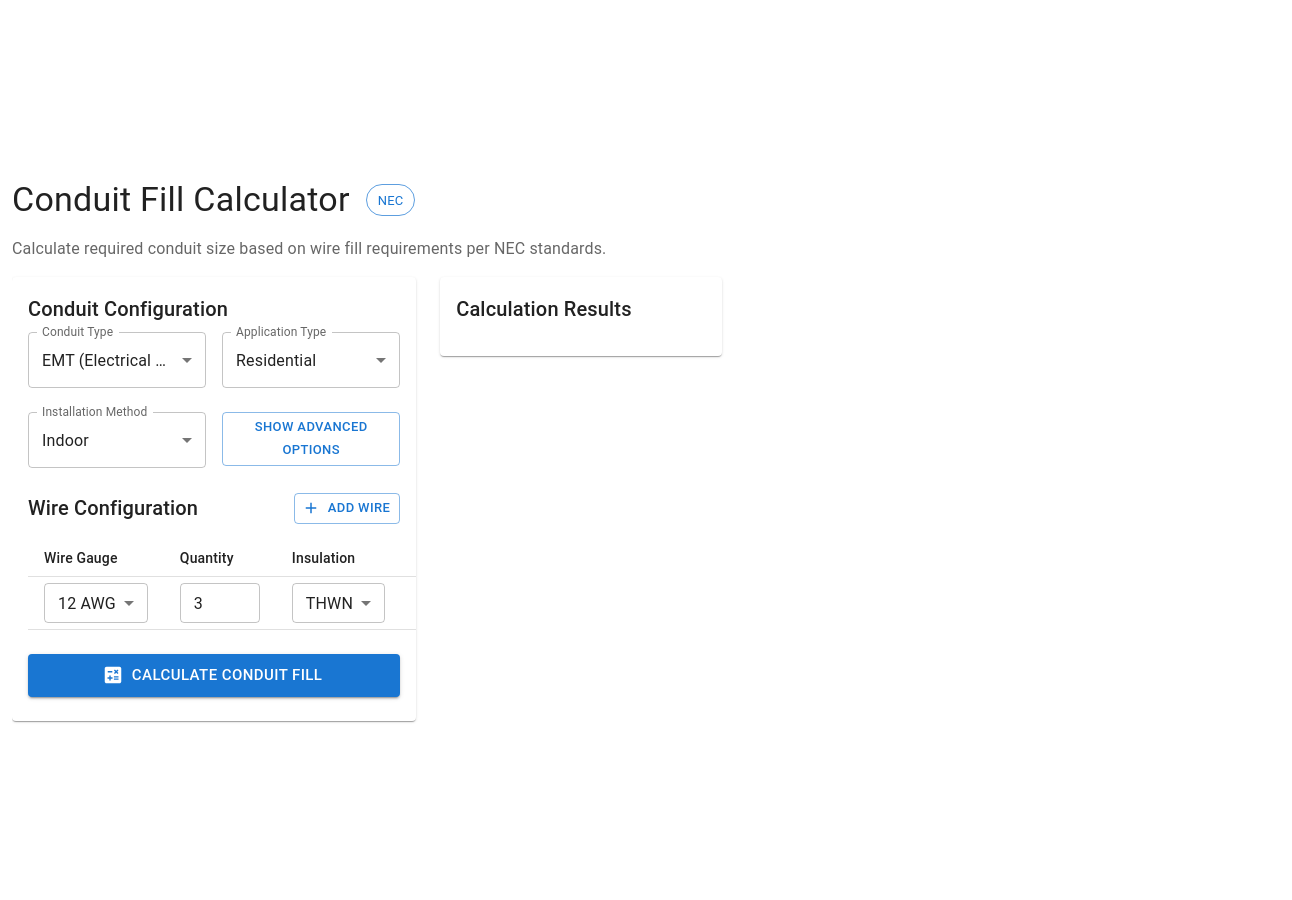
Test: ConduitFillCalculator › Enhanced Results Display › should show comprehensive compliance results
The image size is (1292, 900).
Click the button with test id "calculate-button".
click(214, 676)  # box [28, 654, 400, 697]
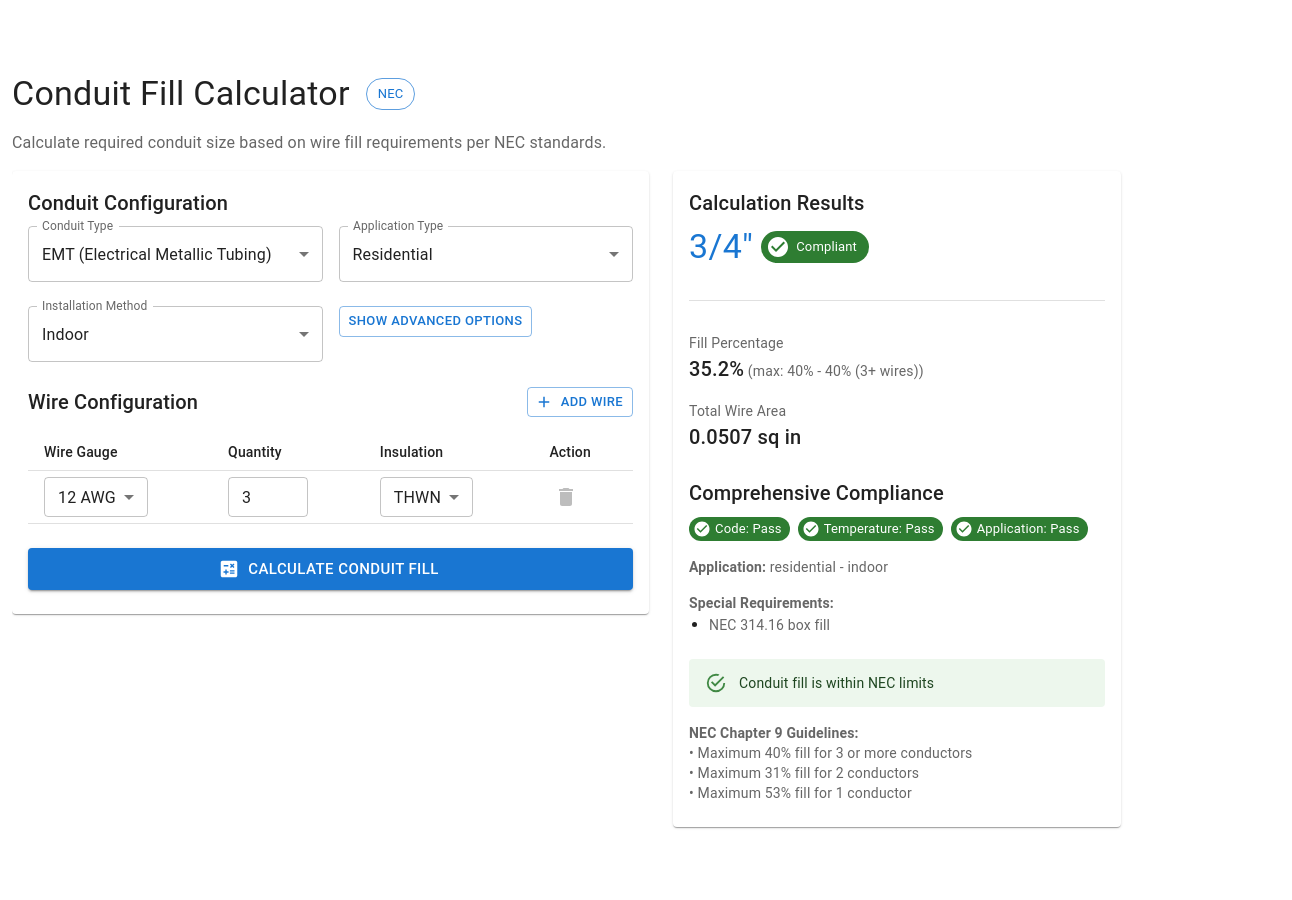
Check: the heading "3/4\"" is shown, box [689, 226, 753, 268]
Check: the heading "Comprehensive Compliance" is shown, box [689, 481, 944, 505]
Check: the text "Code: Pass" is shown, box [715, 521, 782, 536]
